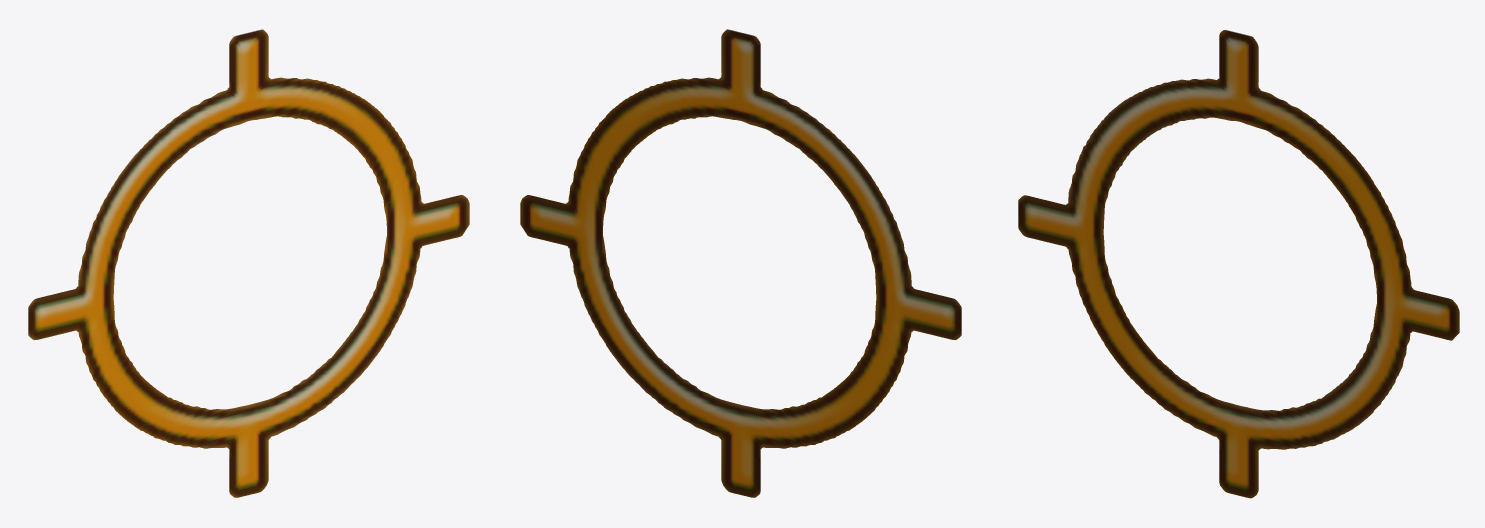
File: hud_target.fbx
3 renders of one model, left to right at view 1: azimuth 30°, elevation 25°; view 2: azimuth 150°, elevation 25°; view 3: azimuth 330°, elevation 25°, orthographic.
Visible parts, largest first — view 1: polySurface12; view 2: polySurface12; view 3: polySurface12.
Boxes of the visible parts, left/top/right/bottom form: polySurface12: left=28, top=29, right=469, bottom=497; polySurface12: left=520, top=29, right=961, bottom=497; polySurface12: left=1018, top=30, right=1459, bottom=498.
Bounding box in the file's own units: 130 × 133 × 0.
Materials: 1 (1 with a texture image).
